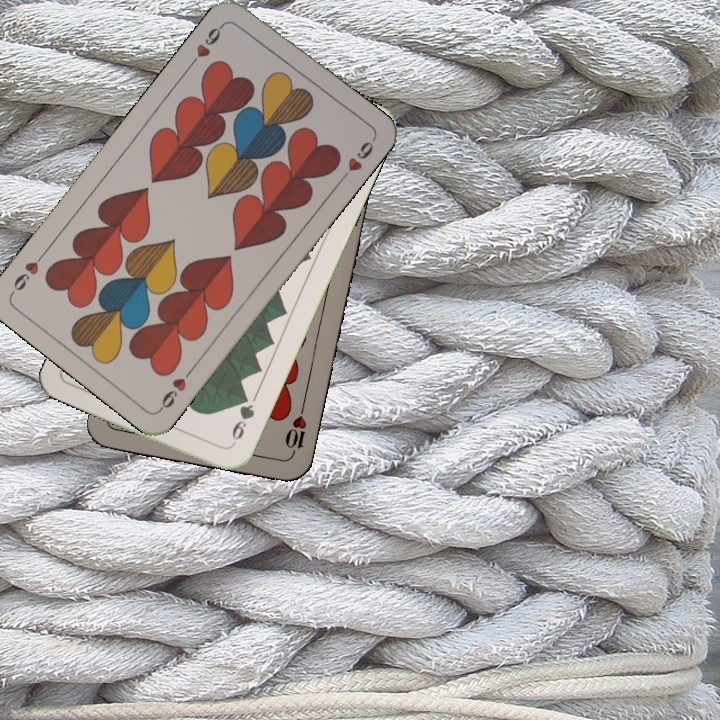G9: (227, 390, 257, 449)
H10: (281, 402, 310, 461)
H9: (186, 18, 228, 69), (155, 363, 197, 413)
